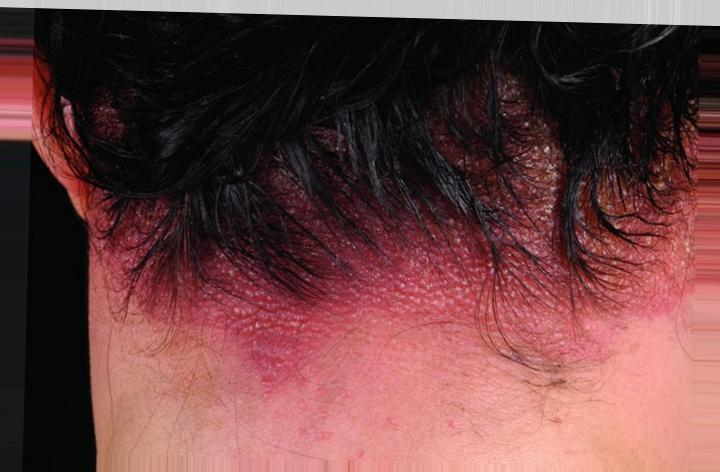Contact Dermatitis: (127, 81, 698, 381)
